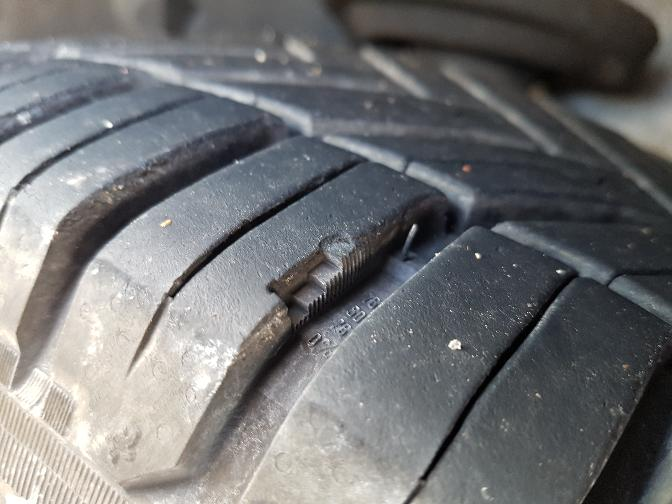temoin:80: (262, 224, 381, 338)
